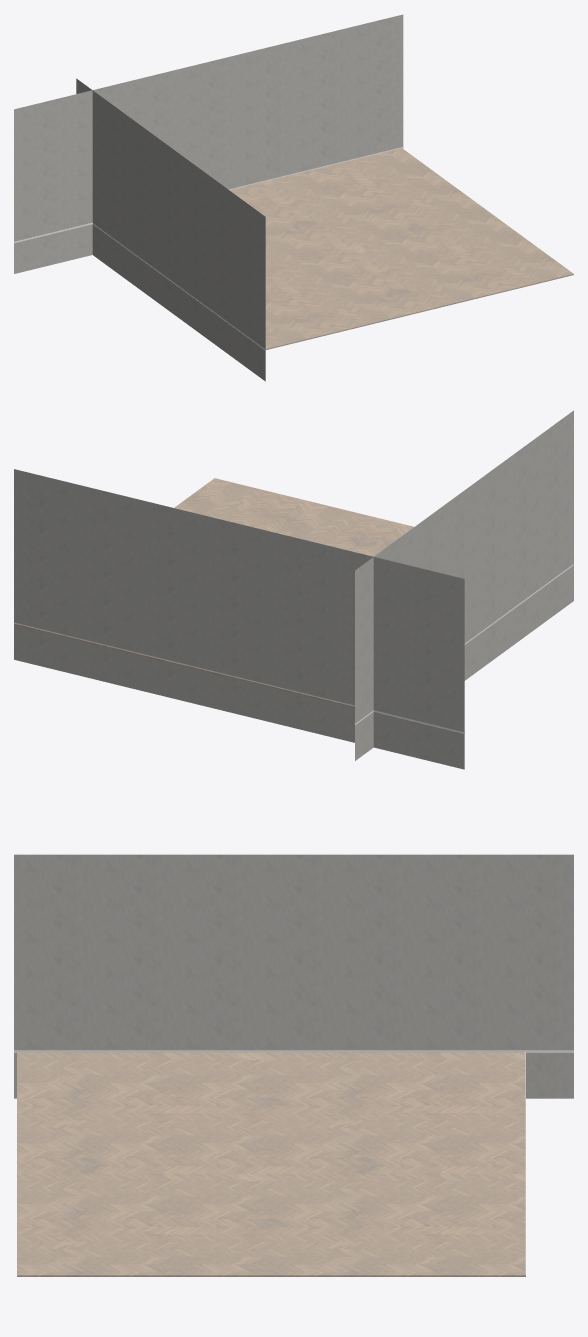
Rendered from spaceTrue.glb.
3 views of the same model, one above another, from view 1: azimuth 30°, elevation 25°; view 2: azimuth 150°, elevation 25°; view 3: azimuth 270°, elevation 25° (orthographic). The views are drawn at different scales.
Visible parts, largest first — view 1: Plane.058, Plane.040, Plane.059; view 2: Plane.058, Plane.059, Plane.040; view 3: Plane.040, Plane.059.
Boxes of the visible parts, left/top/right/bottom form: Plane.058: left=14, top=14, right=403, bottom=273; Plane.040: left=230, top=148, right=573, bottom=349; Plane.059: left=76, top=78, right=265, bottom=381; Plane.058: left=14, top=469, right=464, bottom=769; Plane.059: left=354, top=410, right=573, bottom=760; Plane.040: left=15, top=478, right=413, bottom=707; Plane.040: left=17, top=1052, right=525, bottom=1276; Plane.059: left=14, top=854, right=573, bottom=1098.
Size of the model in its own units: 19.83 by 8.02 by 16.7.
Materials: 3 (2 with a texture image).
